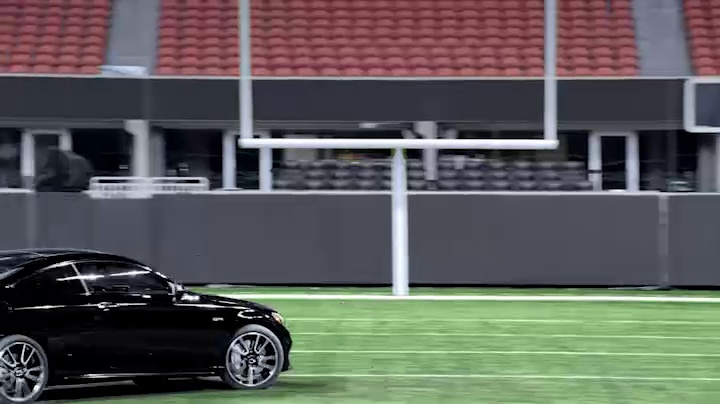amg: (4, 245, 294, 404)
